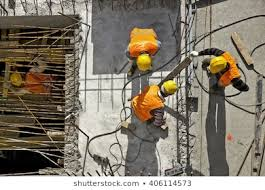helmet: (135, 54, 152, 71), (210, 56, 226, 74), (164, 81, 177, 94)
vest: (134, 87, 164, 119), (131, 26, 156, 53)
